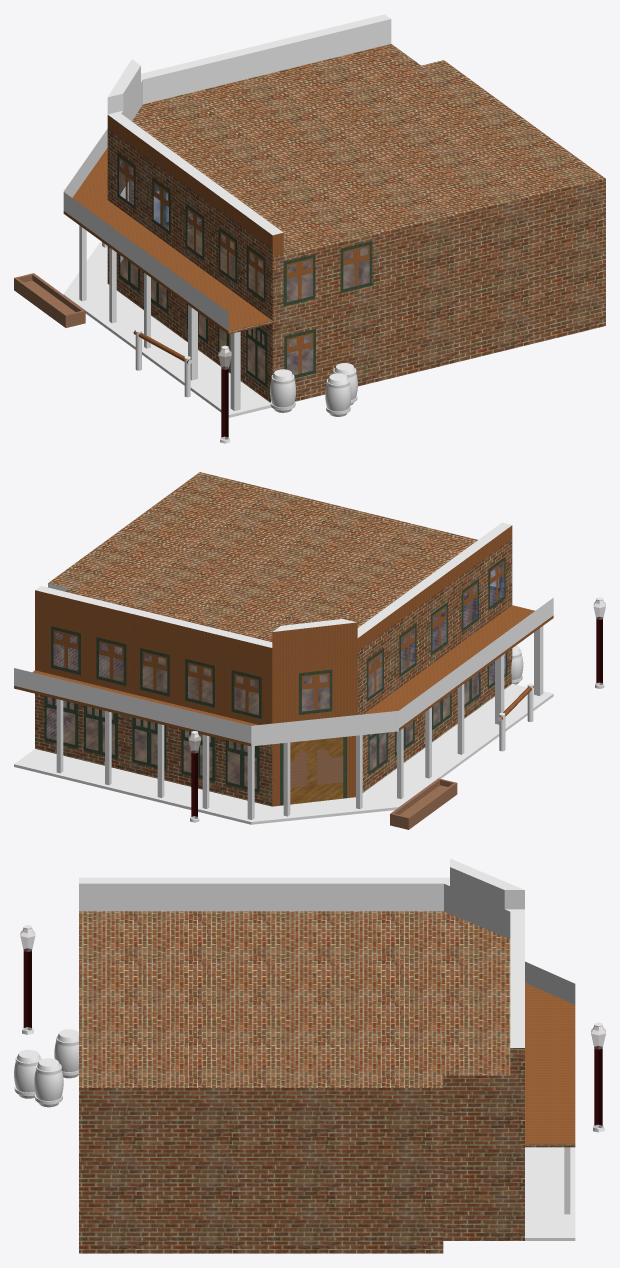
Rendered from building_bom.obj.
3 renders of one model, top to bottom at view 1: azimuth 30°, elevation 25°; view 2: azimuth 150°, elevation 25°; view 3: azimuth 270°, elevation 25°, orthographic. The views are drawn at different scales.
Parts seen in each view (by area): view 1: Mesh2 saloon1 Model, Mesh8 saloon1 Model, Mesh3 saloon1 Model, Mesh9 saloon1 Model, Mesh1 lamp2_1 saloon1 Model; view 2: Mesh2 saloon1 Model, Mesh8 saloon1 Model, Mesh10 saloon1 Model, Mesh1 lamp2_1 saloon1 Model; view 3: Mesh2 saloon1 Model, Mesh4 saloon1 Model, Mesh1 lamp2_1 saloon1 Model, Mesh10 saloon1 Model, Mesh9 saloon1 Model, Mesh3 saloon1 Model.
Part boxes in pixels (x1,y1,x2,y2): Mesh2 saloon1 Model: (63, 14, 605, 417); Mesh8 saloon1 Model: (14, 273, 85, 327); Mesh3 saloon1 Model: (325, 373, 351, 416); Mesh9 saloon1 Model: (270, 369, 295, 412); Mesh1 lamp2_1 saloon1 Model: (218, 345, 231, 443); Mesh2 saloon1 Model: (14, 472, 553, 824); Mesh8 saloon1 Model: (390, 778, 457, 829); Mesh10 saloon1 Model: (188, 731, 200, 822); Mesh1 lamp2_1 saloon1 Model: (593, 597, 605, 688); Mesh2 saloon1 Model: (79, 858, 575, 1253); Mesh4 saloon1 Model: (34, 1058, 63, 1107); Mesh1 lamp2_1 saloon1 Model: (20, 925, 35, 1034); Mesh10 saloon1 Model: (591, 1022, 605, 1132); Mesh9 saloon1 Model: (54, 1029, 78, 1078); Mesh3 saloon1 Model: (14, 1049, 41, 1098).
Bounding box in the file's own units: 706 × 311 × 786.
